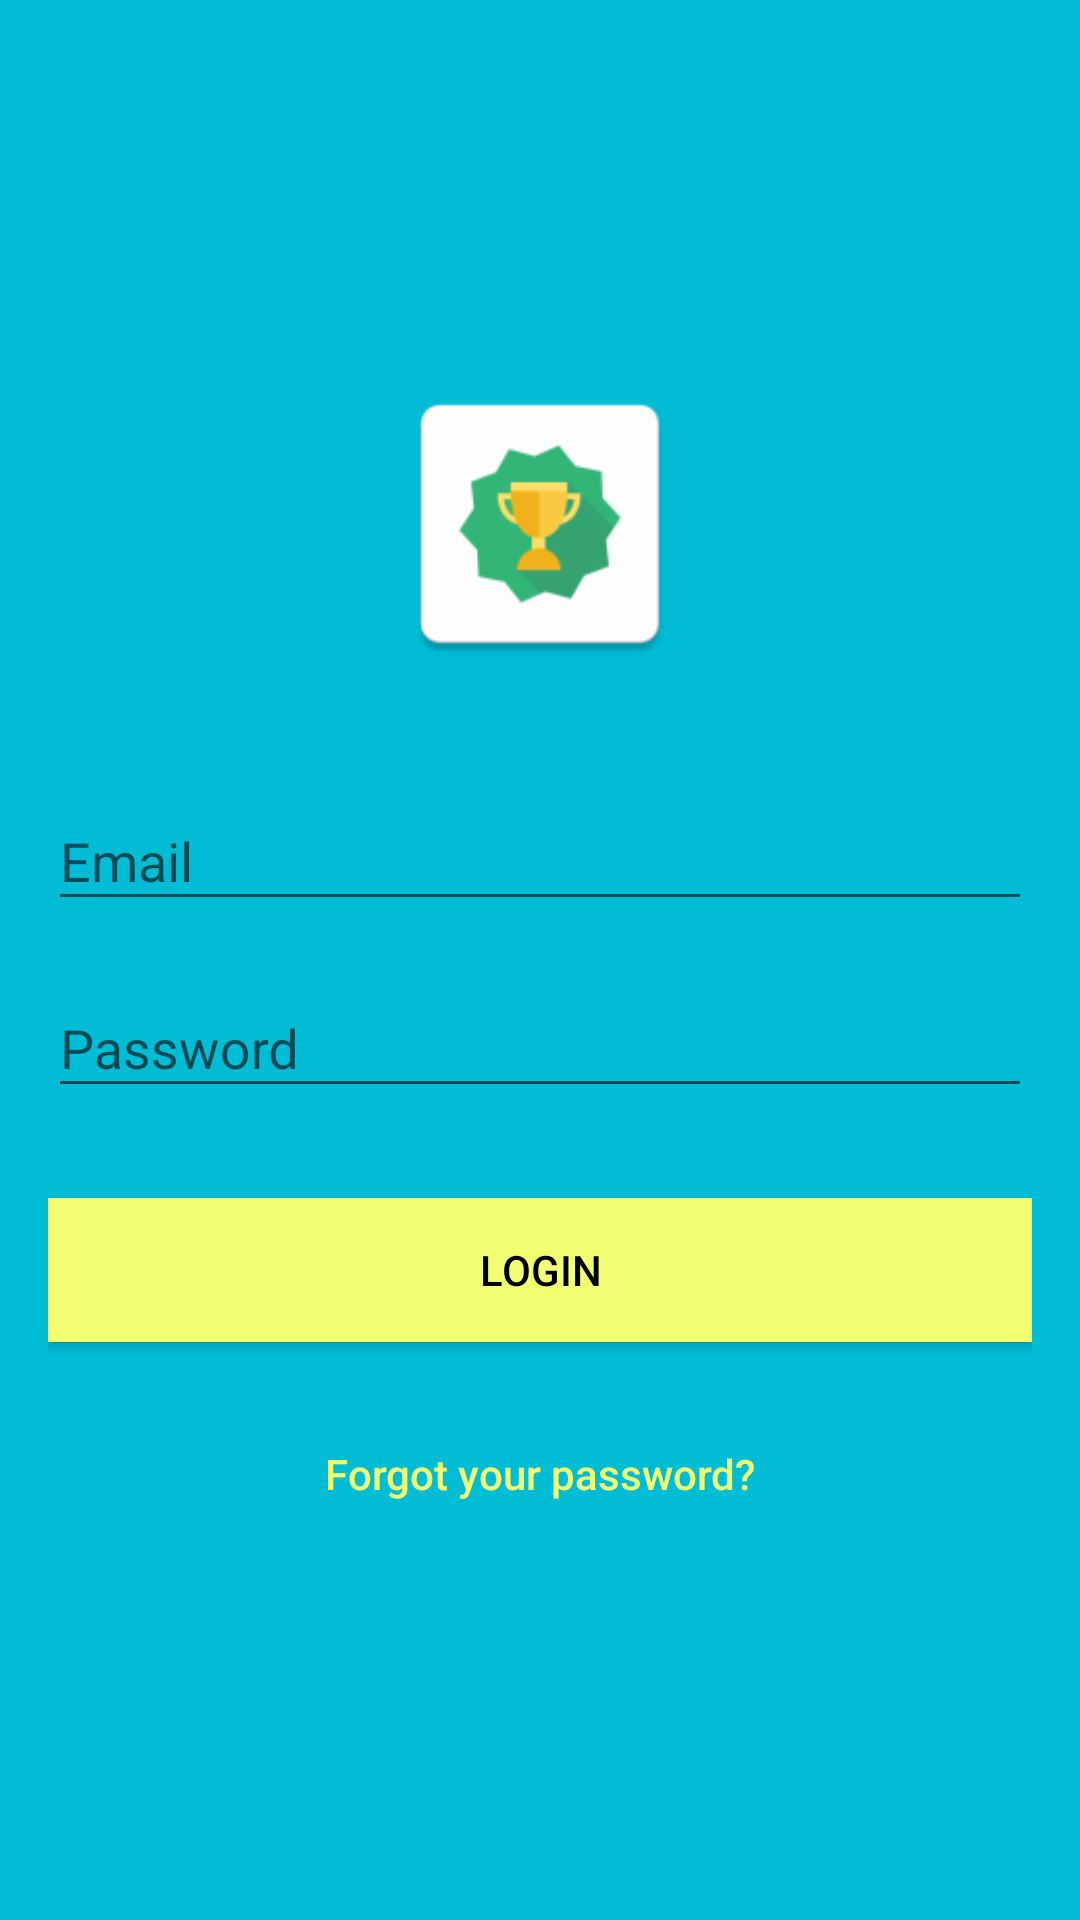

Screen size 1080*1920. Icon name, then its center in pixels as point (x, y):
launch: point (540, 527)
